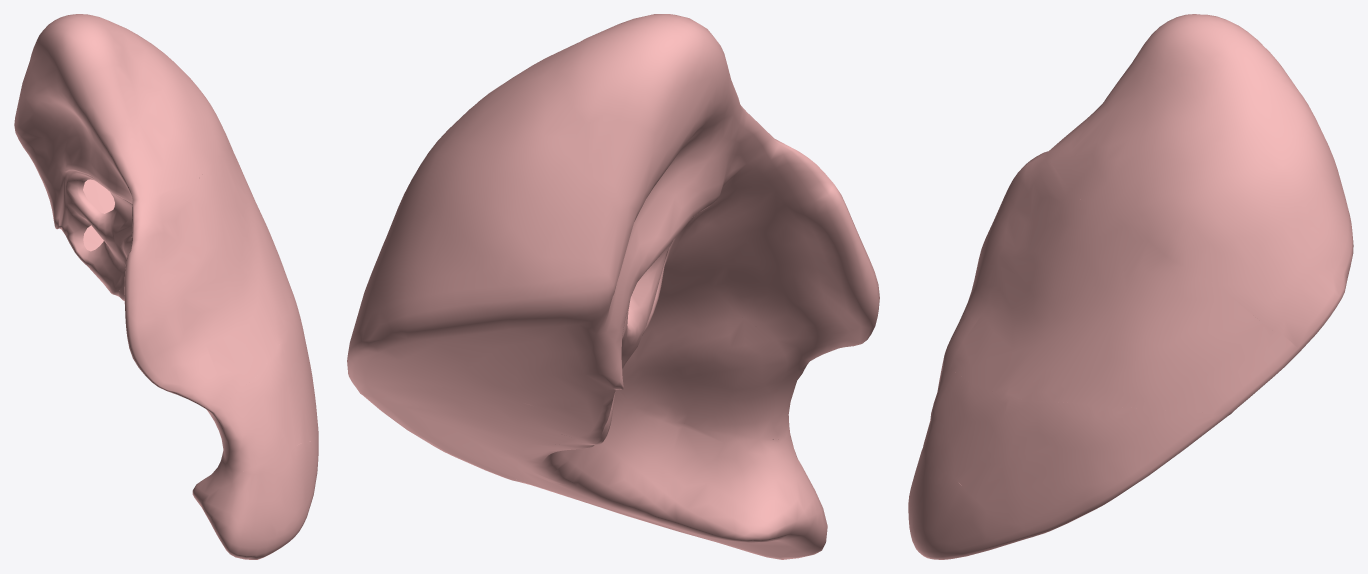
Rendered from visceras-superior-lobe-of-left-lung.glb.
3 views of the same model, side by side, from view 1: azimuth 30°, elevation 25°; view 2: azimuth 150°, elevation 25°; view 3: azimuth 270°, elevation 25° (orthographic). The views are drawn at different scales.
Visible parts, largest first — view 1: Superior lobe of left lung; view 2: Superior lobe of left lung; view 3: Superior lobe of left lung.
Part boxes in pixels (x1,y1,x2,y2): Superior lobe of left lung: [14, 14, 318, 559]; Superior lobe of left lung: [347, 14, 879, 559]; Superior lobe of left lung: [908, 14, 1353, 559].
Size of the model in its own units: 0.1141 by 0.2115 by 0.1708.
